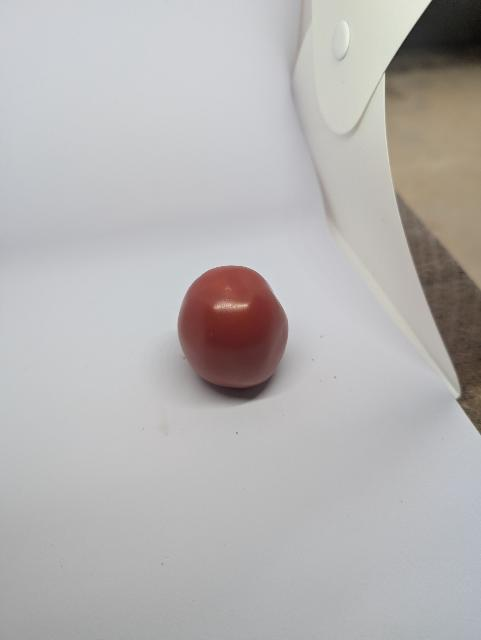red: (167, 254, 313, 416)
